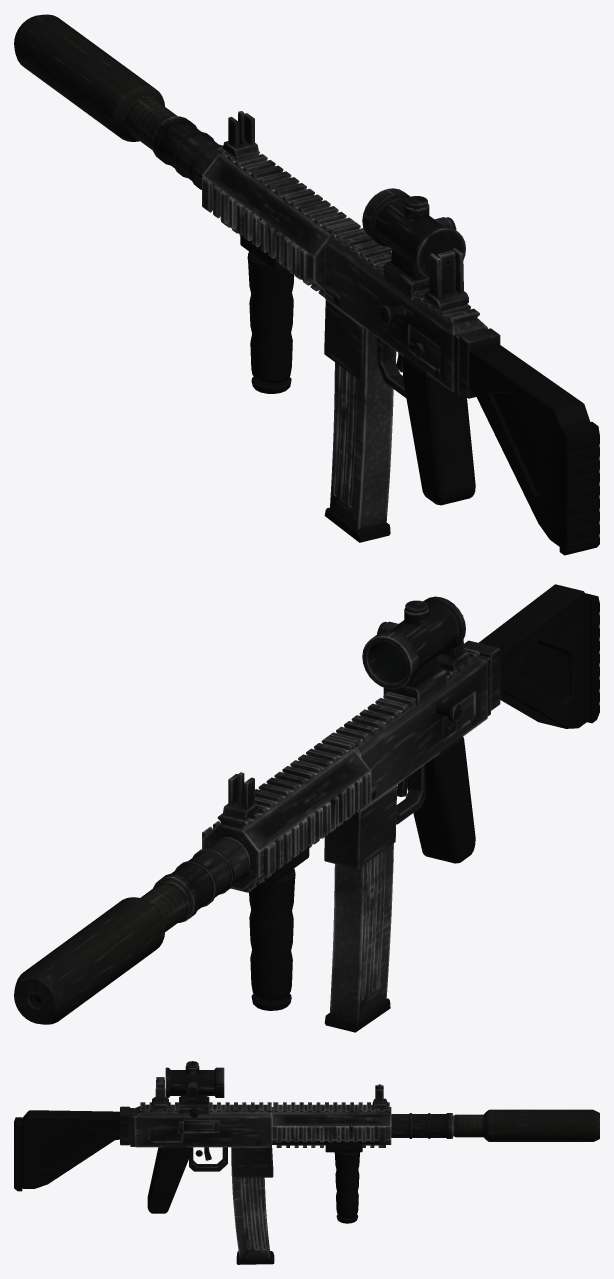
File: smg.glb
3 views of the same model, one above another, from view 1: azimuth 30°, elevation 25°; view 2: azimuth 150°, elevation 25°; view 3: azimuth 270°, elevation 25° (orthographic). The views are drawn at different scales.
Visible parts, largest first — view 1: body, magazine, suppressor, red_dot, foregrip, rear_sight; view 2: body, suppressor, magazine, red_dot, foregrip, rd_lens_r; view 3: body, suppressor, magazine, red_dot, foregrip, rear_sight.
Part boxes in pixels (x1=…): body: x1=151, y1=111, x2=599, y2=555; magazine: x1=324, y1=329, x2=393, y2=542; suppressor: x1=14, y1=14, x2=177, y2=149; red_dot: x1=362, y1=188, x2=465, y2=299; foregrip: x1=240, y1=234, x2=294, y2=393; rear_sight: x1=424, y1=248, x2=468, y2=310; body: x1=153, y1=584, x2=599, y2=922; suppressor: x1=14, y1=882, x2=188, y2=1024; magazine: x1=324, y1=843, x2=393, y2=1032; red_dot: x1=362, y1=596, x2=465, y2=706; foregrip: x1=249, y1=844, x2=309, y2=1010; rd_lens_r: x1=374, y1=642, x2=406, y2=678; body: x1=14, y1=1084, x2=454, y2=1213; suppressor: x1=454, y1=1109, x2=599, y2=1141; magazine: x1=231, y1=1152, x2=274, y2=1264; red_dot: x1=165, y1=1061, x2=224, y2=1117; foregrip: x1=325, y1=1143, x2=362, y2=1223; rear_sight: x1=152, y1=1077, x2=168, y2=1109.
Size of the model in its own units: 0.0588 by 0.2901 by 0.7795.
Materials: 6 (4 with a texture image).
